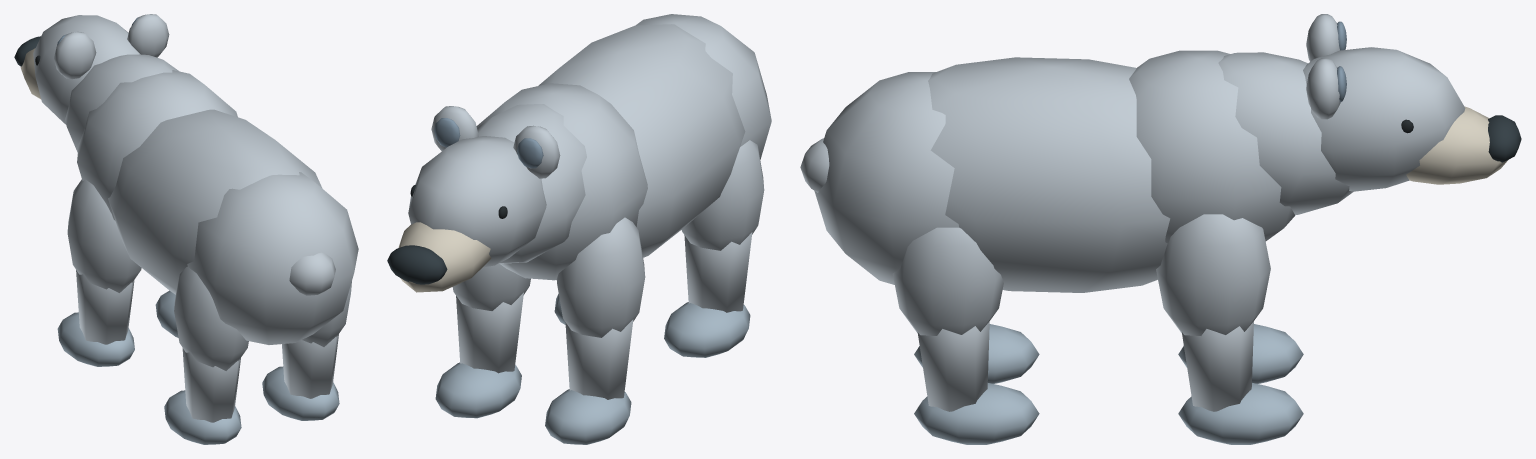
The model's file is polar-bear-medium.glb.
3 renders of one model, left to right at view 1: azimuth 30°, elevation 25°; view 2: azimuth 150°, elevation 25°; view 3: azimuth 270°, elevation 25°, orthographic. The views are drawn at different scales.
Visible parts, largest first — view 1: polar-bear-medium; view 2: polar-bear-medium; view 3: polar-bear-medium.
Part boxes in pixels (x1,y1,x2,y2): polar-bear-medium: (14,14,358,444); polar-bear-medium: (387,14,771,444); polar-bear-medium: (800,14,1521,444).
Bounding box in the file's own units: 0.7976 × 1.4 × 2.46.
